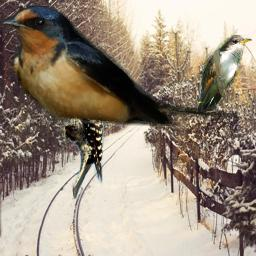Cuckoo: (197, 35, 252, 112)
Swallow: (0, 6, 241, 126)
Woodpecker: (54, 77, 106, 200)
